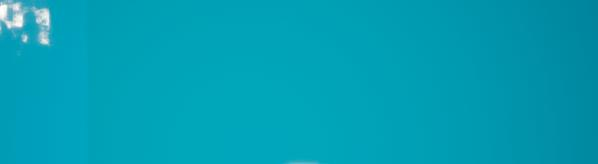land_base: (0, 0, 67, 52)
